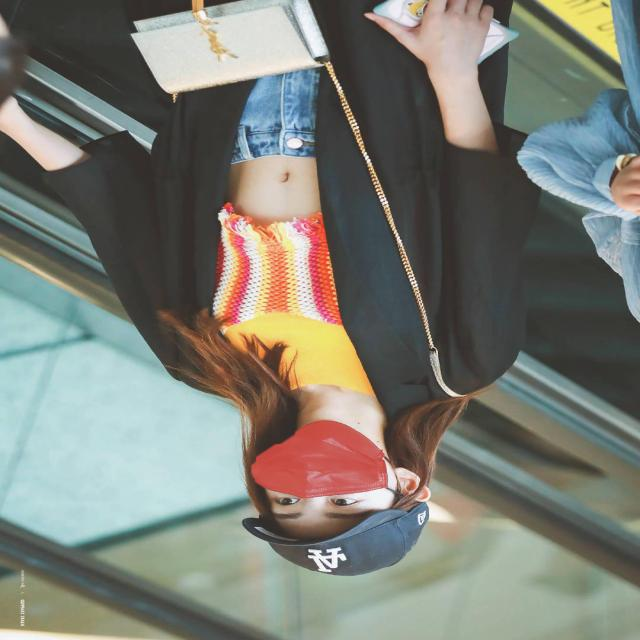mask: (246, 417, 403, 502)
